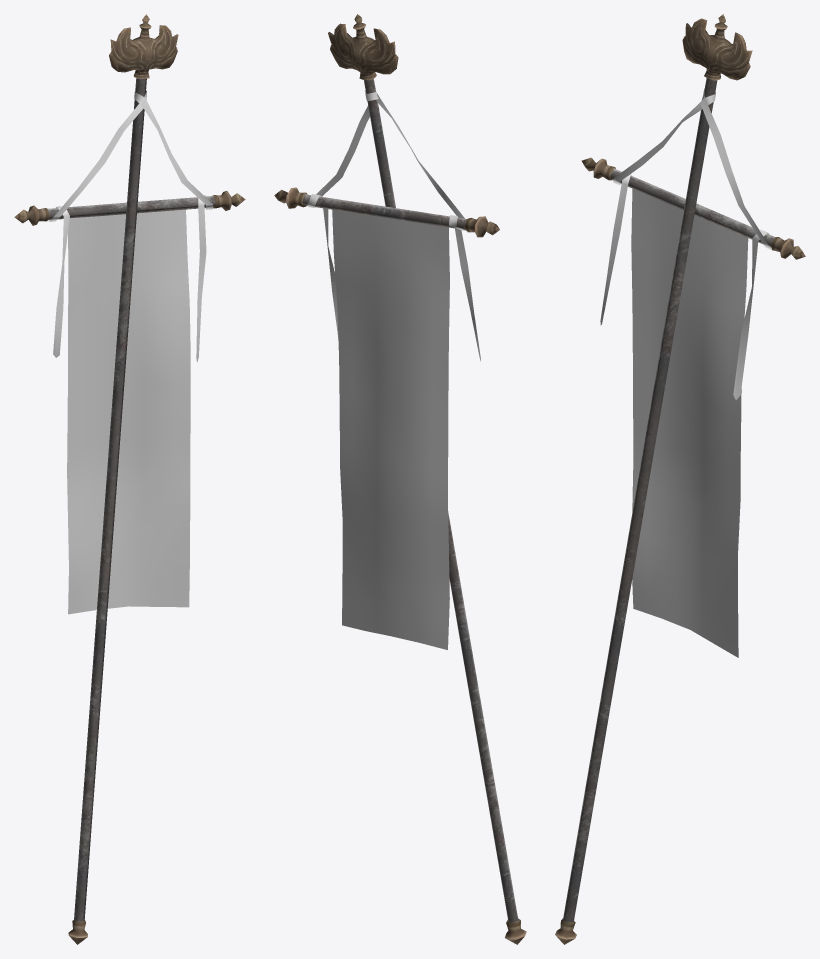
3 views of the same model, side by side, from view 1: azimuth 30°, elevation 25°; view 2: azimuth 150°, elevation 25°; view 3: azimuth 330°, elevation 25° (orthographic). The views are drawn at different scales.
Parts seen in each view (by area): view 1: SM_Banner01_LOD0; view 2: SM_Banner01_LOD0; view 3: SM_Banner01_LOD0.
Boxes of the visible parts, bbox=[...] form: SM_Banner01_LOD0: bbox=[14, 14, 245, 944]; SM_Banner01_LOD0: bbox=[274, 14, 526, 944]; SM_Banner01_LOD0: bbox=[555, 14, 805, 944].
Size of the model in its own units: 1.38 by 5.22 by 0.5452.
2 materials, 1 textured.
